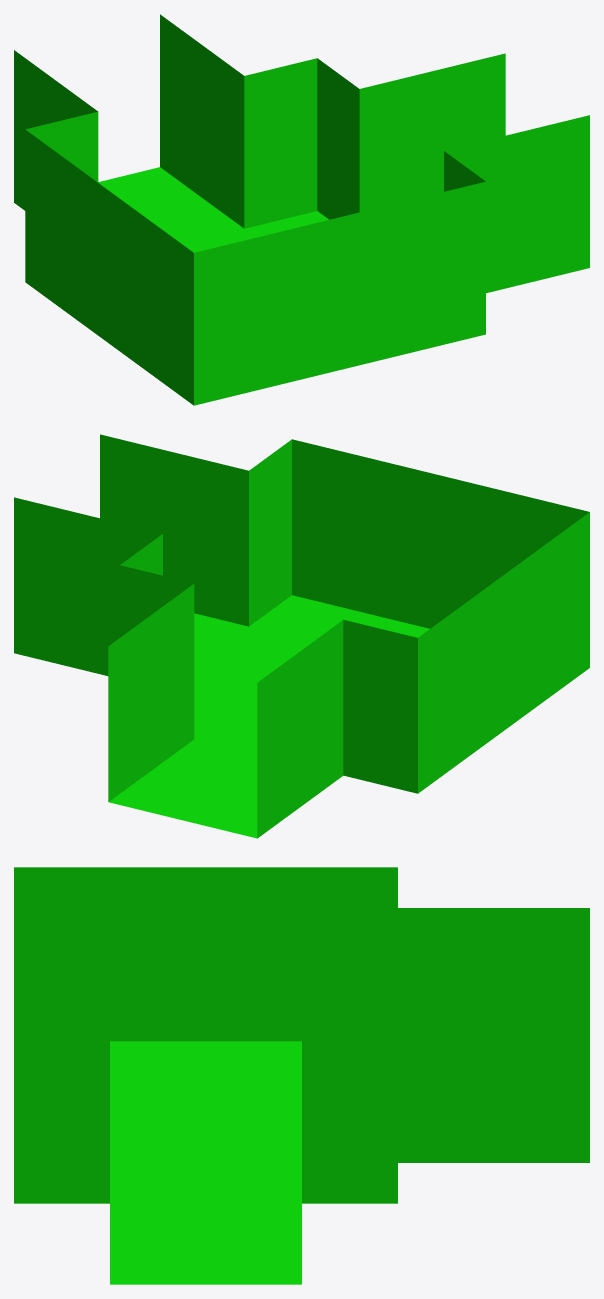
File: L_room_0.glb
The picture shows the model from 3 angles, top to bottom: view 1: azimuth 30°, elevation 25°; view 2: azimuth 150°, elevation 25°; view 3: azimuth 270°, elevation 25°; orthographic projection. The views are drawn at different scales.
Visible parts, largest first — view 1: L_room_0; view 2: L_room_0; view 3: L_room_0.
Part boxes in pixels (bbox=[...]): L_room_0: bbox=[14, 14, 589, 405]; L_room_0: bbox=[14, 434, 589, 838]; L_room_0: bbox=[14, 867, 589, 1284].
Size of the model in its own units: 3 by 1 by 3.
